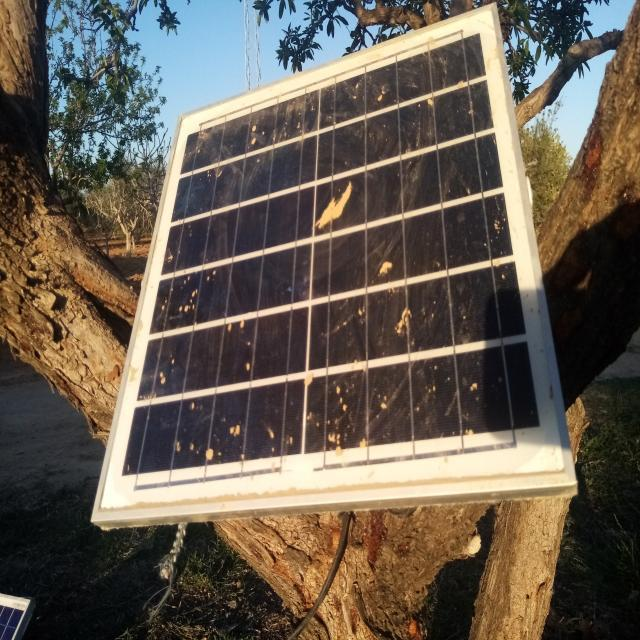faulty: (95, 4, 572, 517)
